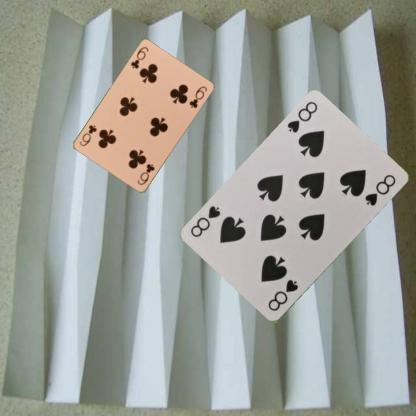6c: (128, 44, 150, 70), (135, 161, 156, 187)
8s: (265, 277, 300, 313), (284, 98, 319, 134)
